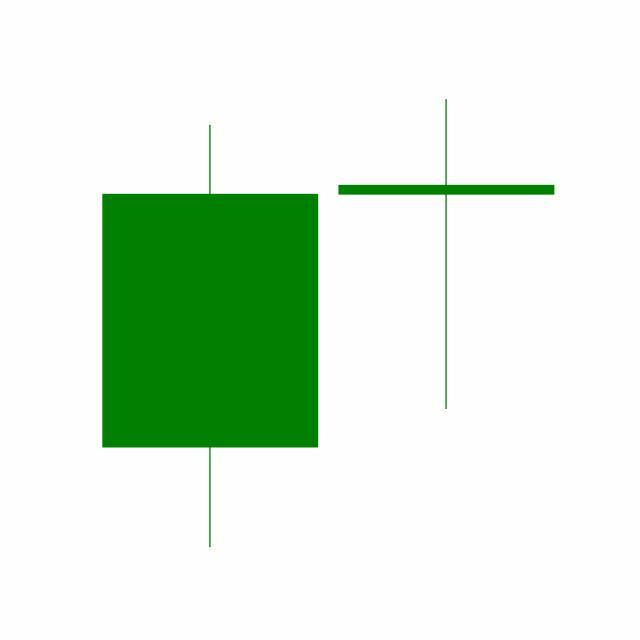Spinning Top: (328, 96, 566, 414)
